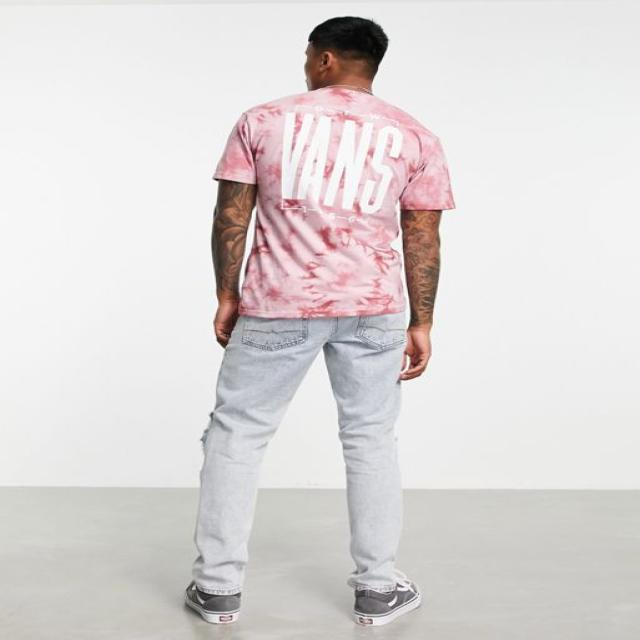tshirt: (211, 85, 455, 322)
